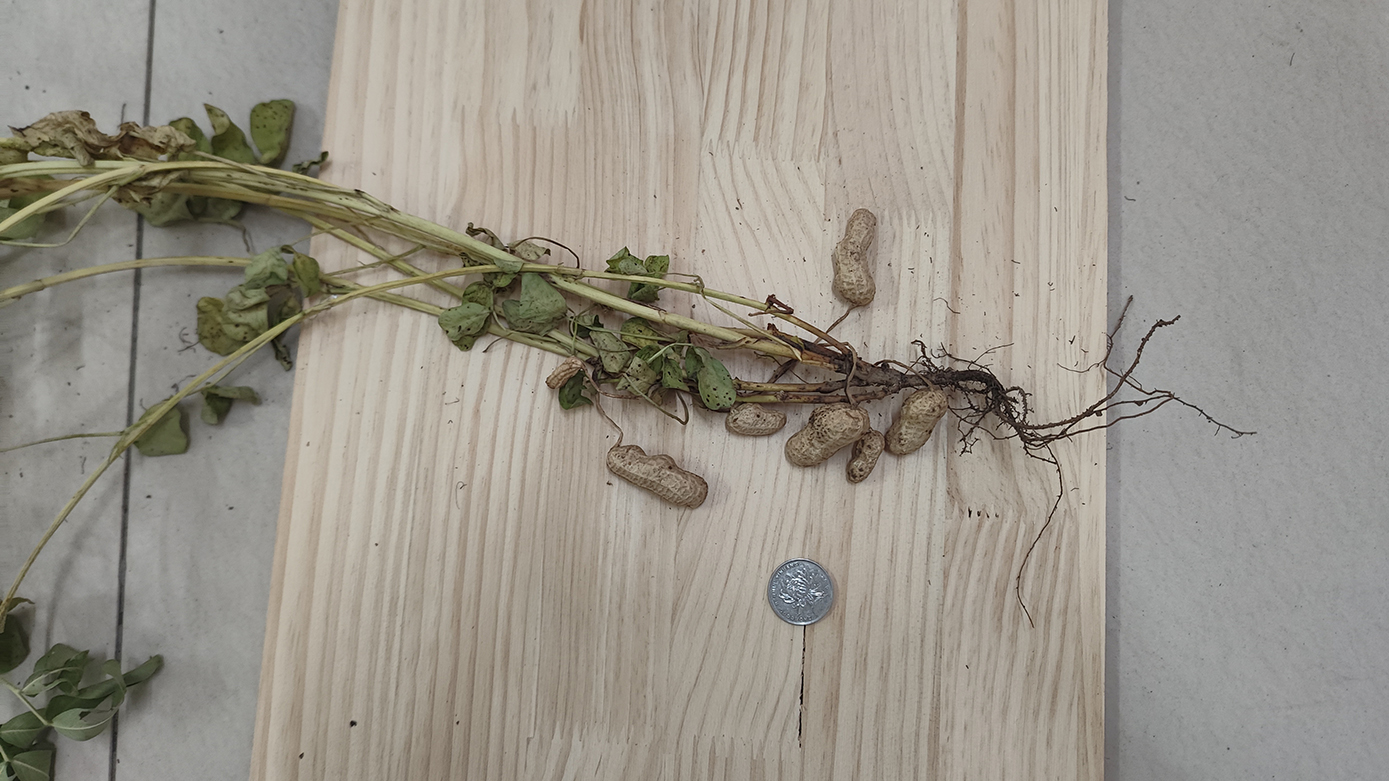h: (606, 443, 711, 510), (785, 401, 869, 468), (832, 208, 878, 308), (886, 389, 949, 457), (726, 402, 786, 437), (846, 430, 886, 482)
l: (547, 356, 585, 389)
